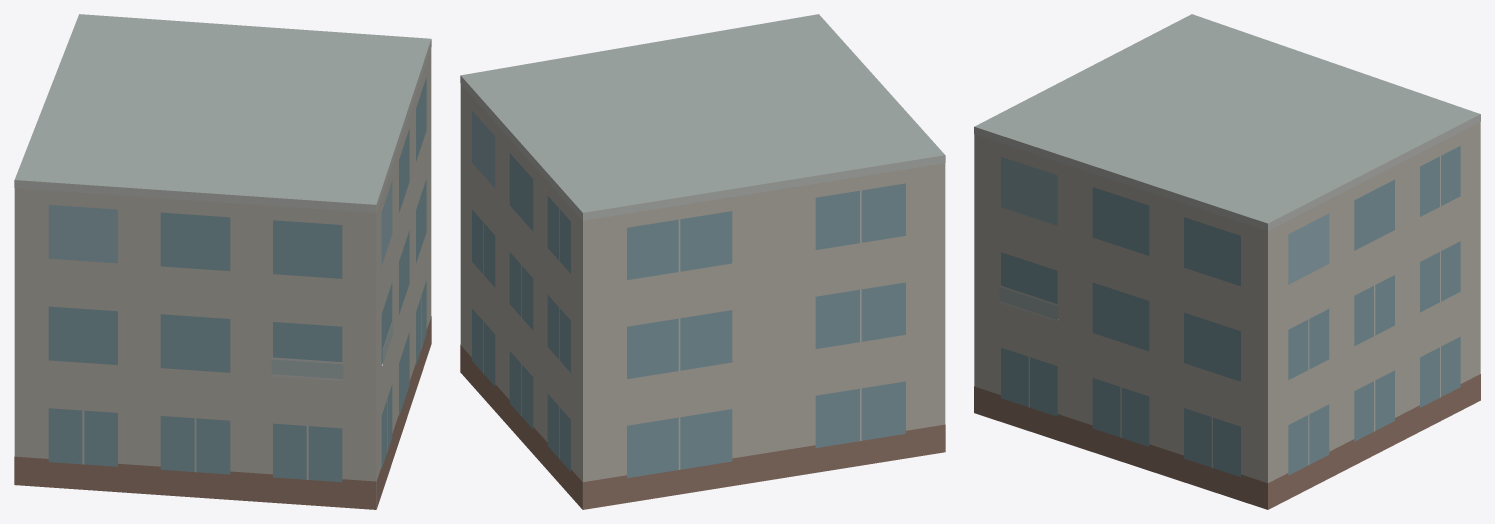
The model's file is survey-upis-32497689.glb.
3 renders of one model, left to right at view 1: azimuth 30°, elevation 25°; view 2: azimuth 150°, elevation 25°; view 3: azimuth 270°, elevation 25°, orthographic. The views are drawn at different scales.
Parts seen in each view (by area): view 1: survey-upis-32497689.tmp; view 2: survey-upis-32497689.tmp; view 3: survey-upis-32497689.tmp.
Boxes of the visible parts, <box> form: survey-upis-32497689.tmp: <box>14,14,431,509</box>; survey-upis-32497689.tmp: <box>460,14,945,509</box>; survey-upis-32497689.tmp: <box>974,14,1480,509</box>.
Bounding box in the file's own units: 14.37 × 9.15 × 14.68.
